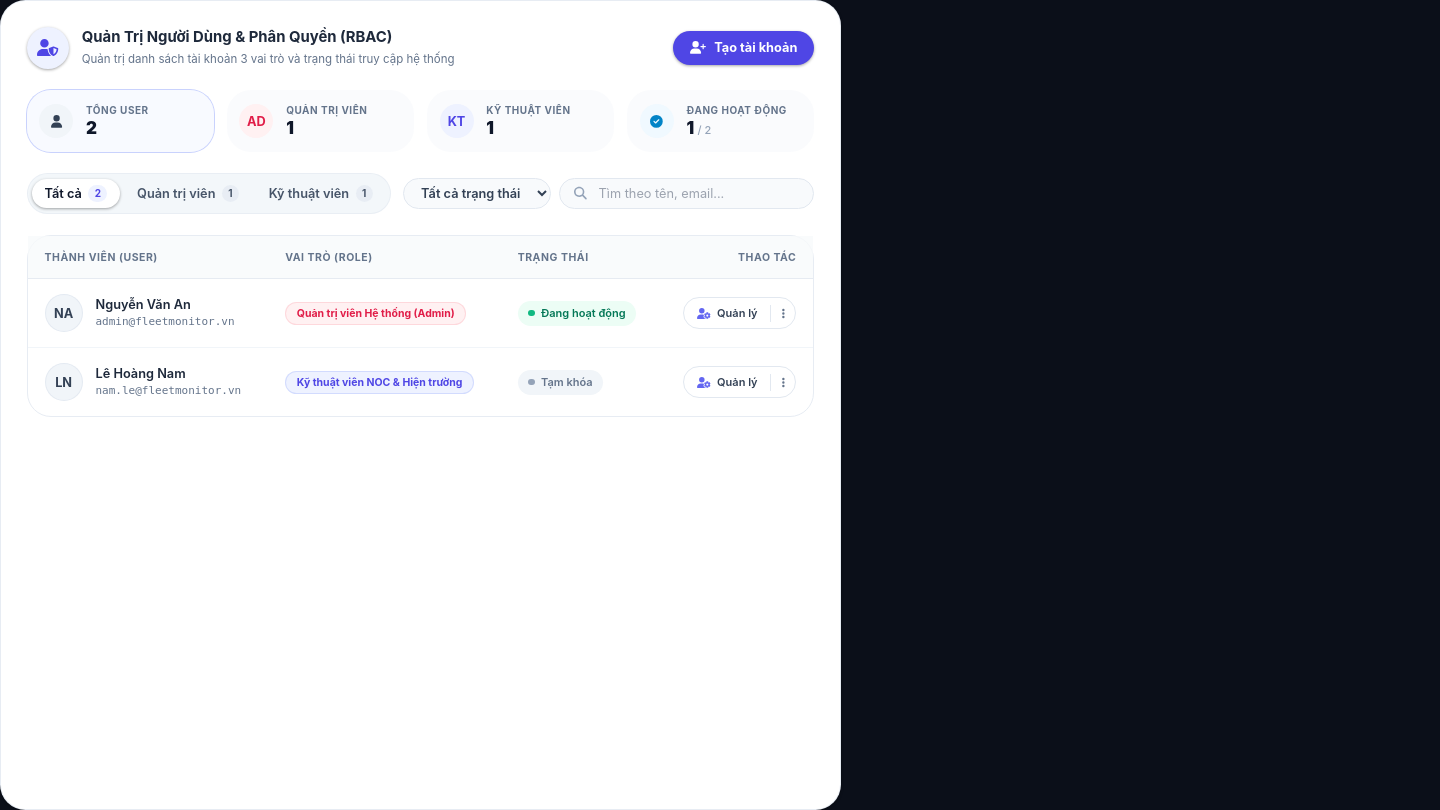
Test case: UserRbacManagerCard — Simplified RBAC Layout, Split Actions & Modals › filters users by status dropdown and opens UserCreateModal without branch scope
Select "Tạm khóa" in the dropdown named "Lọc theo trạng thái tài khoản" at (477, 193), box [403, 178, 551, 209]
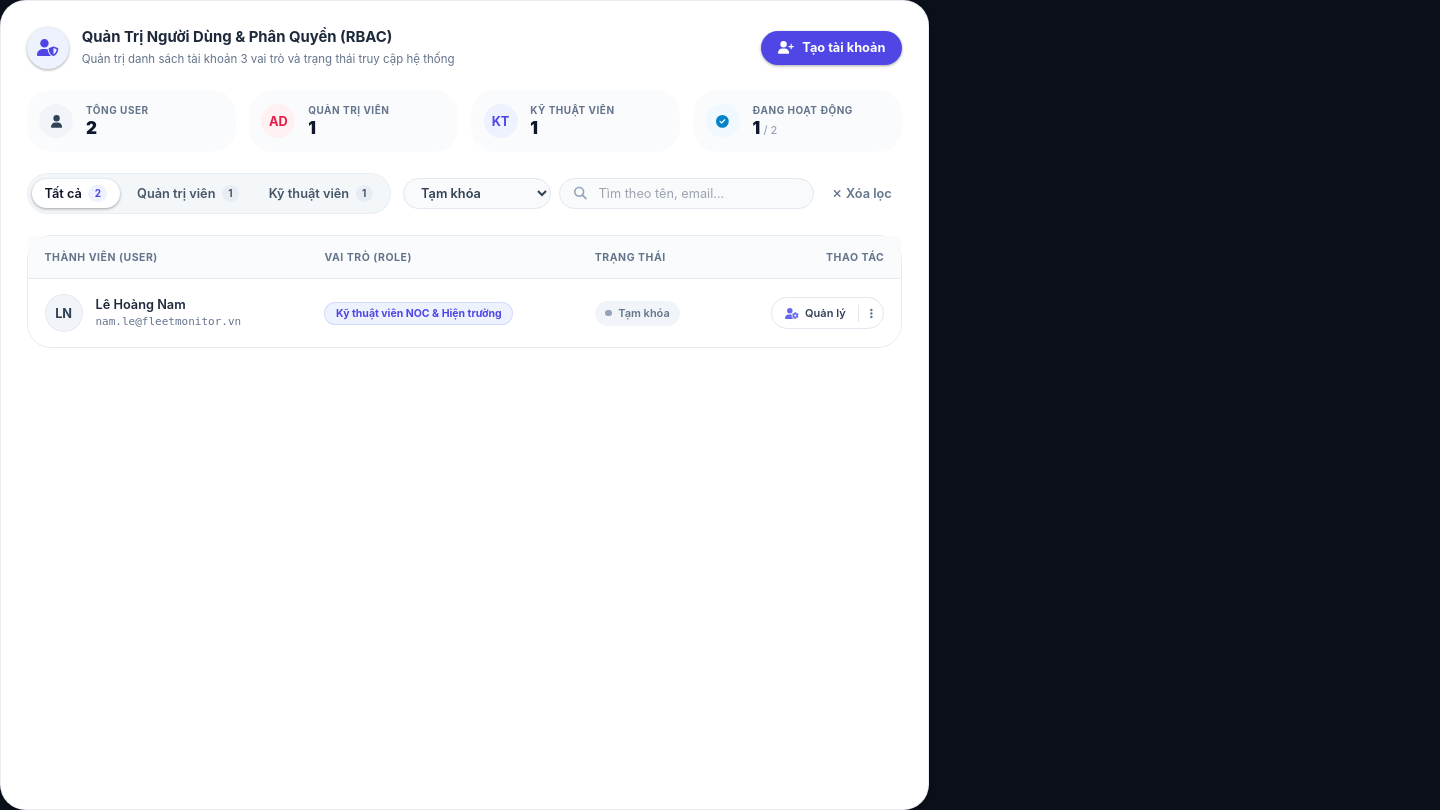
Expected: the text "Lê Hoàng Nam" is shown, [96, 297, 186, 312]
Now the text "Nguyễn Văn An" is gone
Click the button "Tạo tài khoản" at (832, 48), box [761, 31, 902, 65]
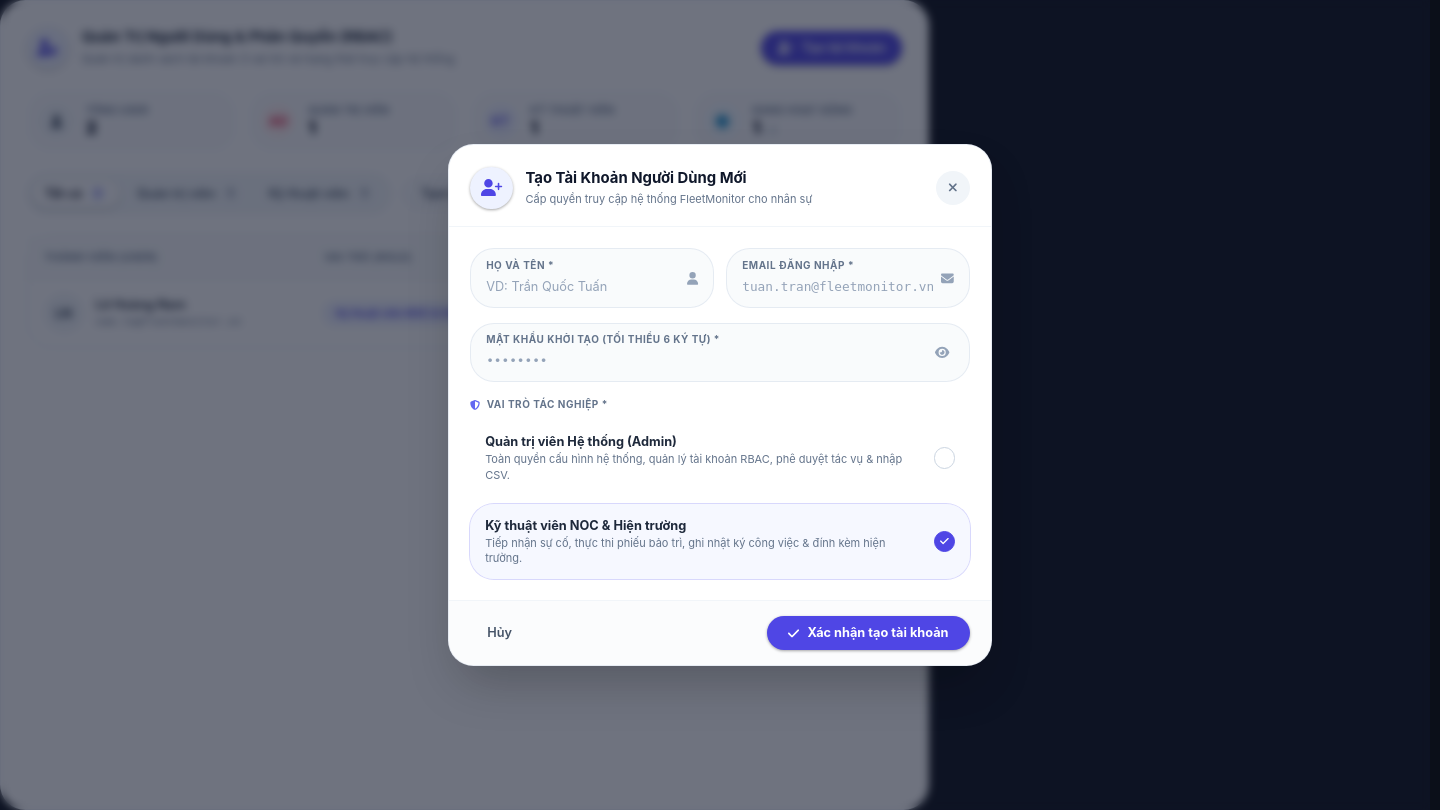
Now the heading "Tạo Tài Khoản Người Dùng Mới" is shown, box [526, 169, 747, 187]
